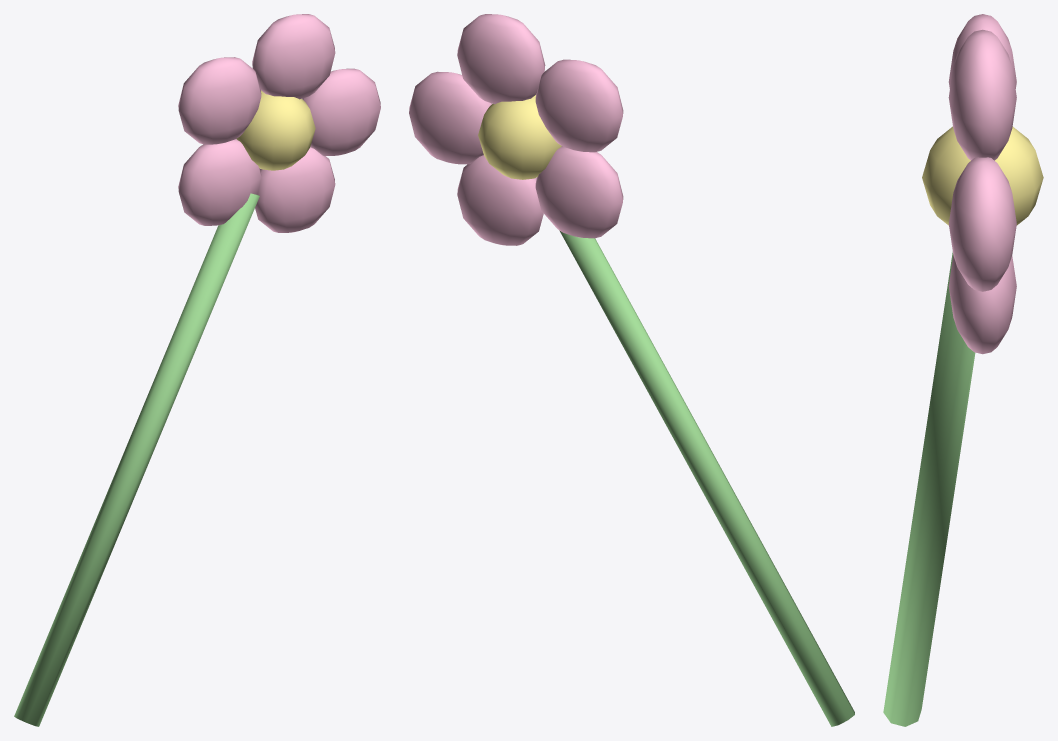
Rendered from wand_flower.glb.
The picture shows the model from 3 angles, left to right: view 1: azimuth 30°, elevation 25°; view 2: azimuth 150°, elevation 25°; view 3: azimuth 270°, elevation 25°; orthographic projection. The views are drawn at different scales.
Visible parts, largest first — view 1: wand_flower; view 2: wand_flower; view 3: wand_flower.
Boxes of the visible parts, x1,y1,x2,y2 form: wand_flower: (14,14,380,726); wand_flower: (409,14,854,726); wand_flower: (883,14,1043,726).
Size of the model in its own units: 0.2669 by 0.4039 by 0.0659.
